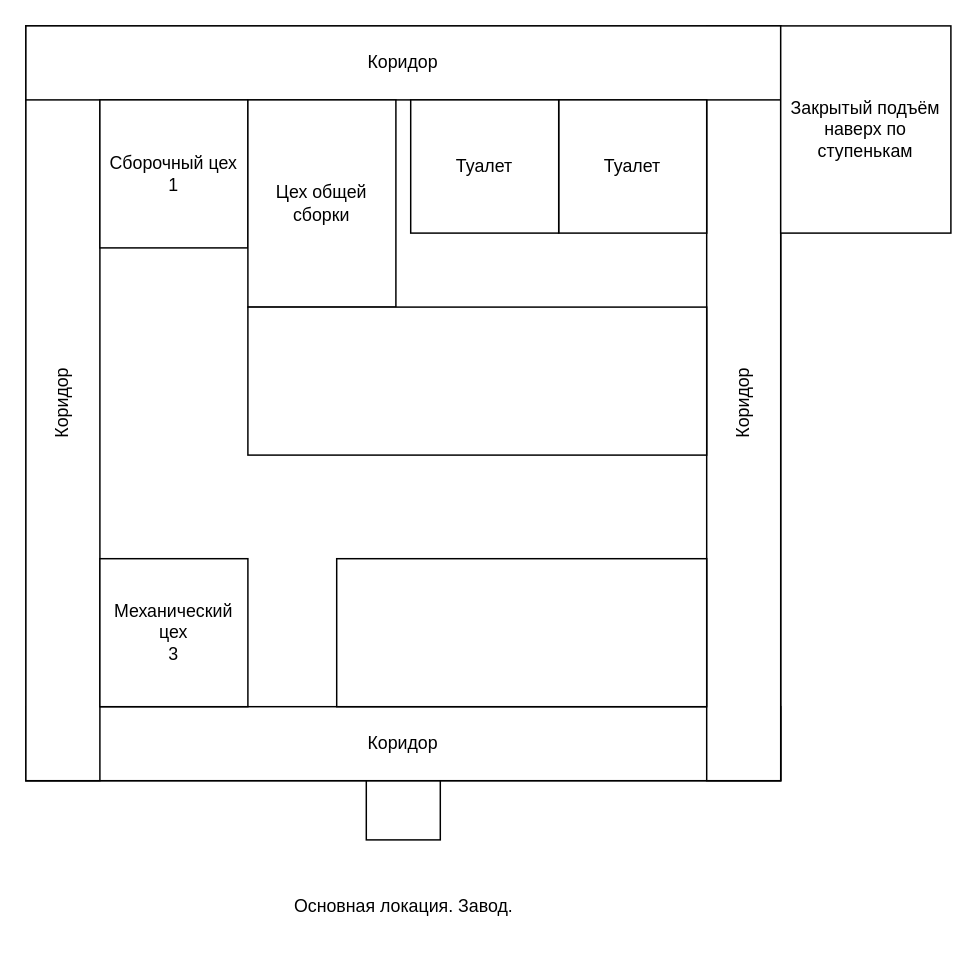
This 977x955 diagram has some shape labels left out. Each missing label, with the centre of its shape:
"Административные помещения" belongs at point (521, 632).
"Склад запасных вещей 2" belongs at point (476, 380).
"СТАРТ" belongs at point (402, 809).
